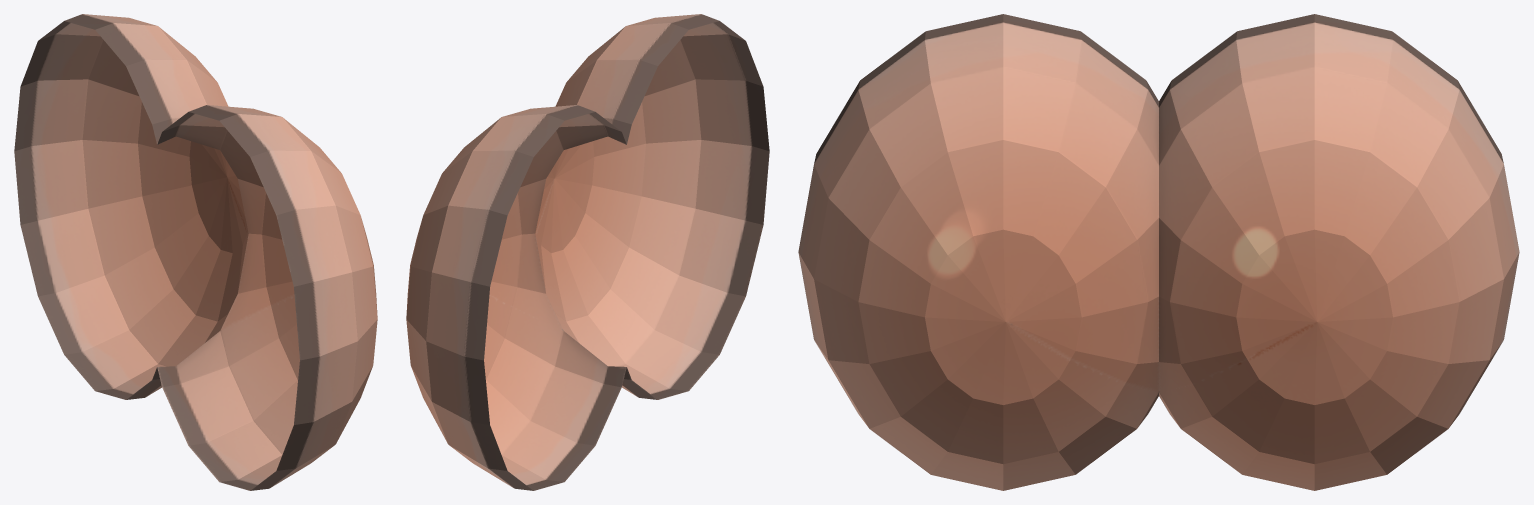
File: ButtonAssButt.fbx
3 renders of one model, left to right at view 1: azimuth 30°, elevation 25°; view 2: azimuth 150°, elevation 25°; view 3: azimuth 270°, elevation 25°, orthographic. The views are drawn at different scales.
Parts seen in each view (by area): view 1: butt base .001; view 2: butt base .001; view 3: butt base .001.
Part boxes in pixels (bbox=[...]): butt base .001: bbox=[14, 14, 377, 490]; butt base .001: bbox=[406, 14, 769, 490]; butt base .001: bbox=[798, 14, 1519, 490].
Bounding box in the file's own units: 10.78 × 28.25 × 40.27.
